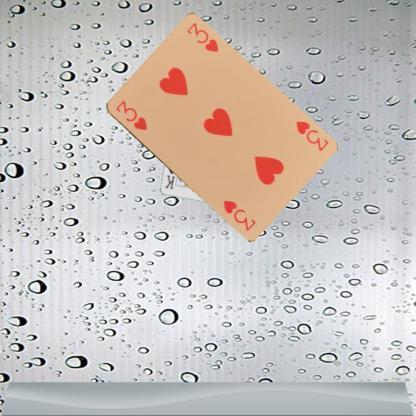3h: (292, 118, 330, 152), (112, 98, 148, 132)
